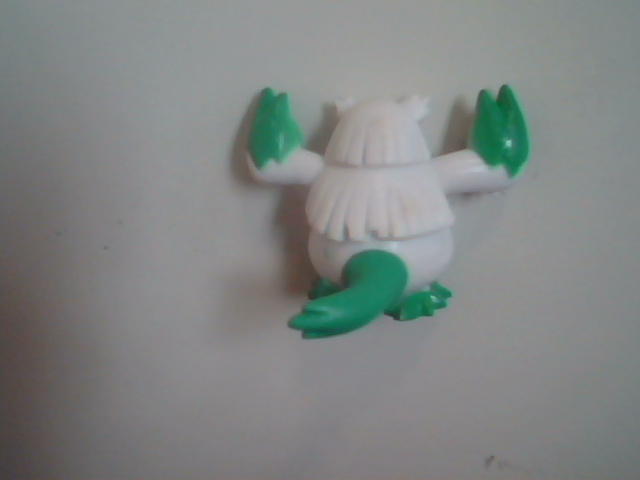abomasnow: (198, 47, 567, 385)
